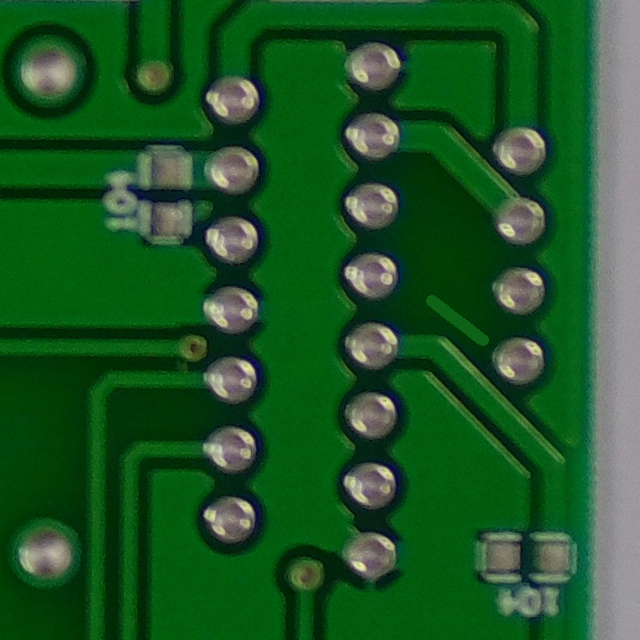spurious_copper: (408, 282, 492, 358)
